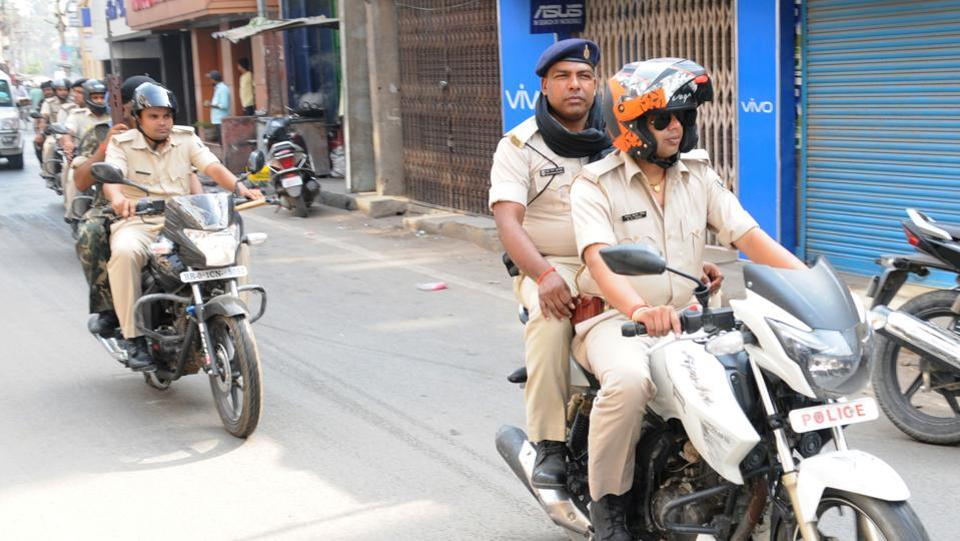helmet: (609, 60, 710, 140), (127, 80, 183, 123)
